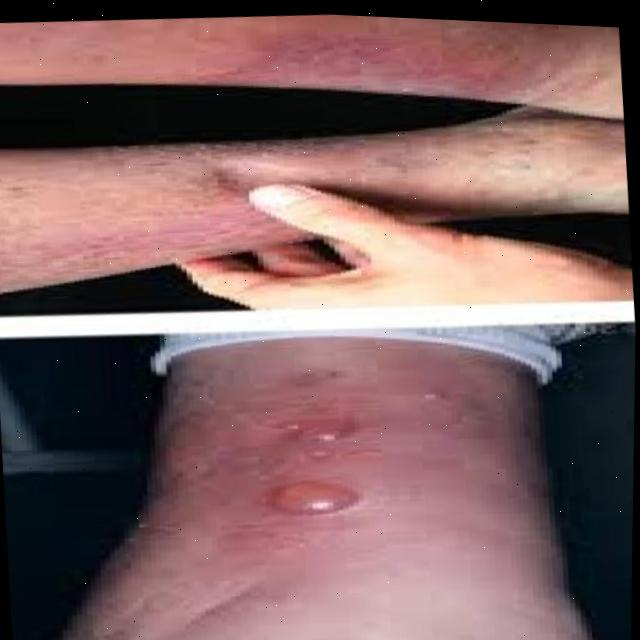Eczema: (256, 383, 376, 557), (244, 39, 512, 97), (206, 169, 260, 204)
